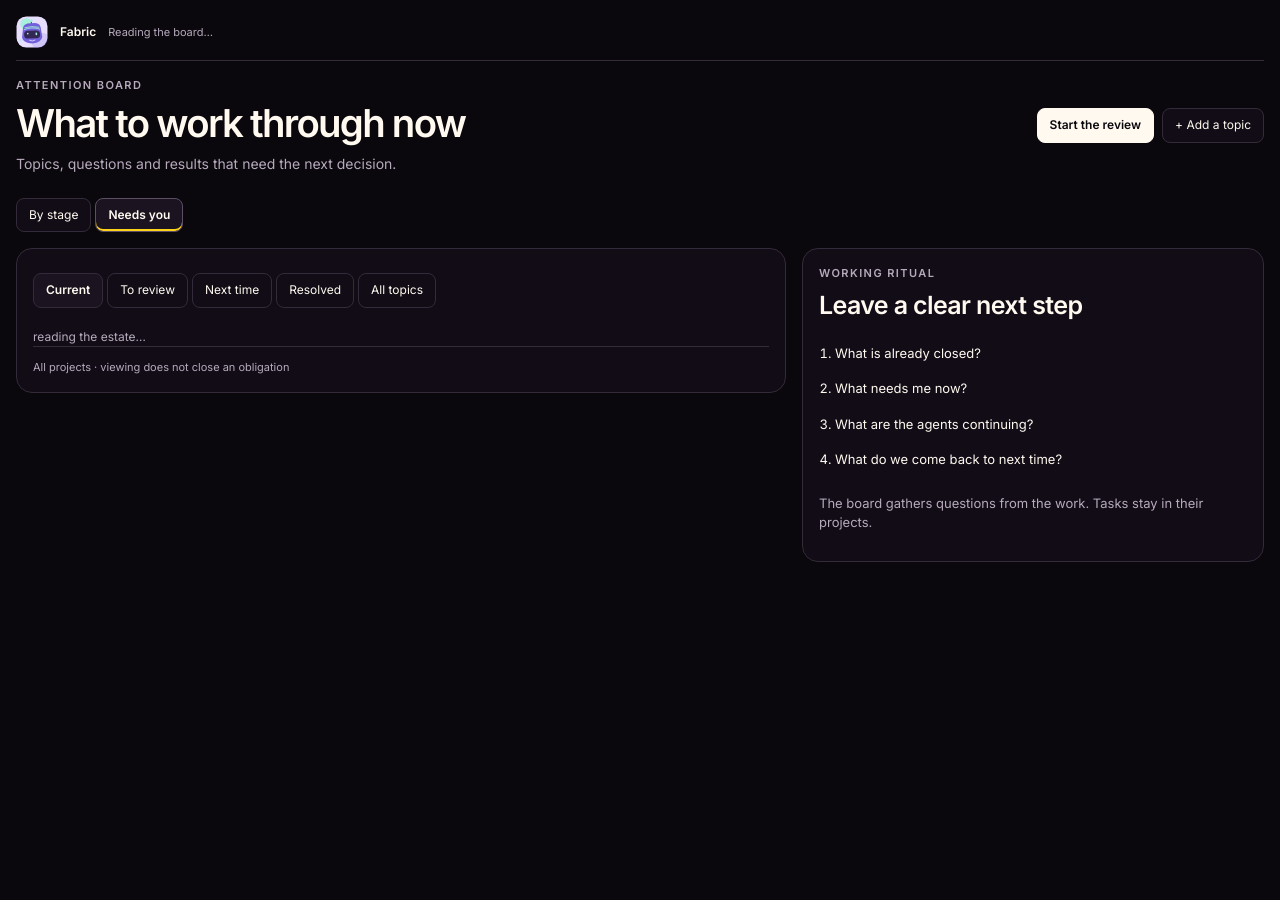
Test: the board never calls a partial queue clear (UXA-C02) › and still lists what DID answer, naming what did not
Click the button "To review". click: (148, 291)
box: [107,273,188,308]
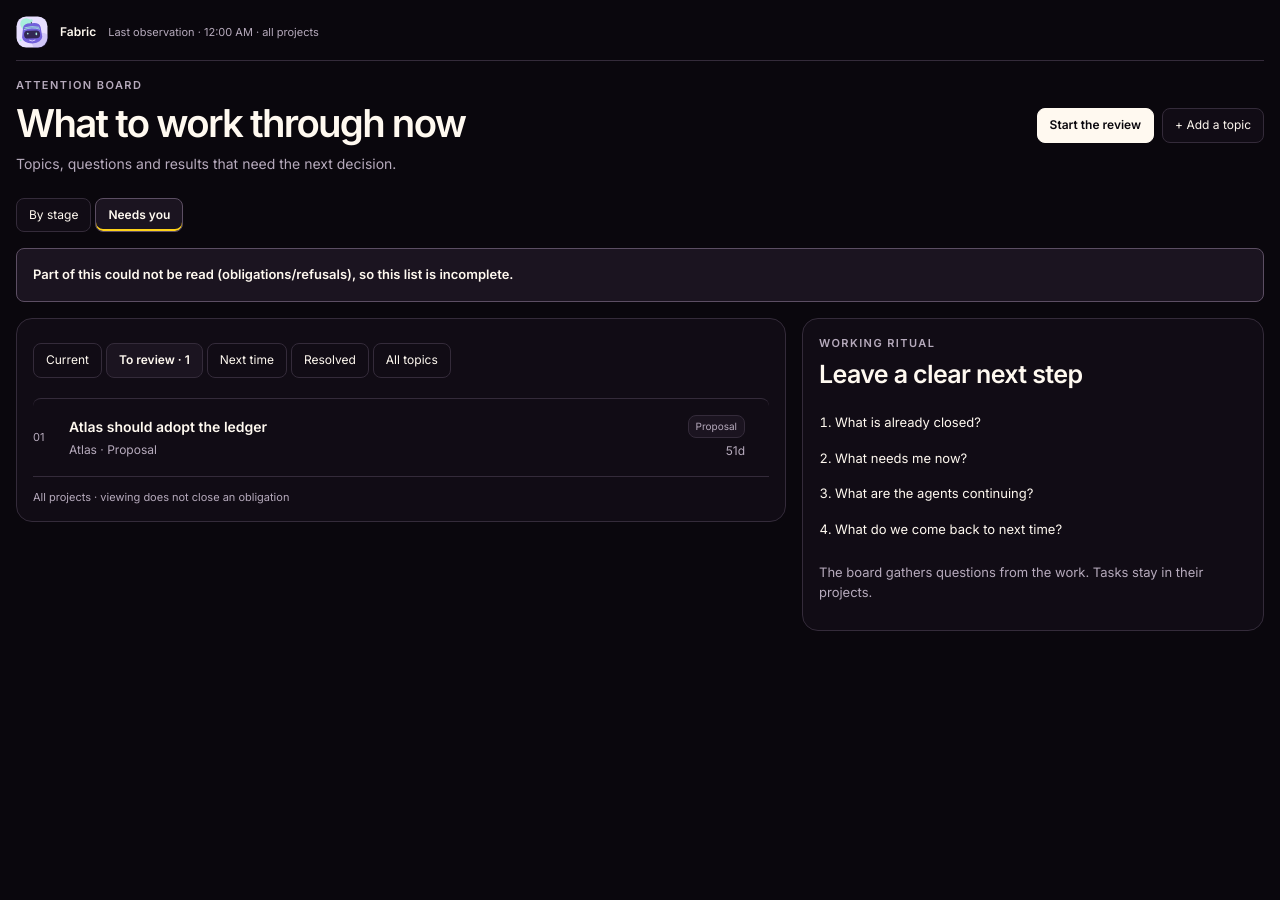
Check: the text "Atlas should adopt the ledger" is shown, box [69,418,267,435]
